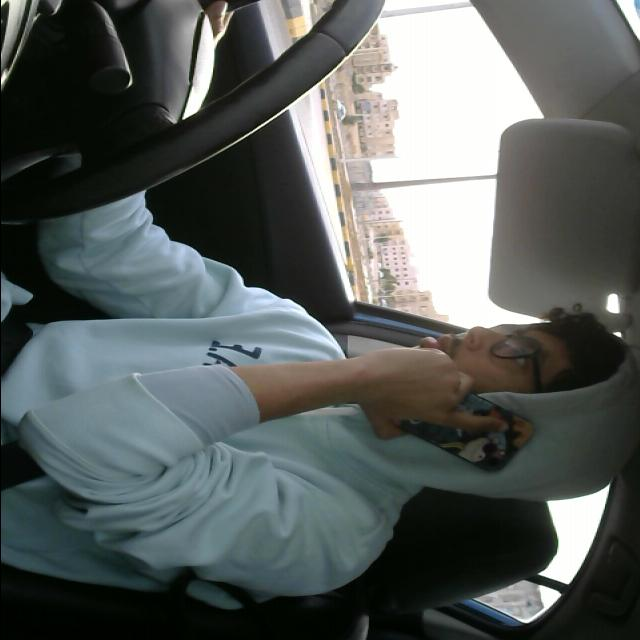mobile use: (382, 370, 536, 476)
